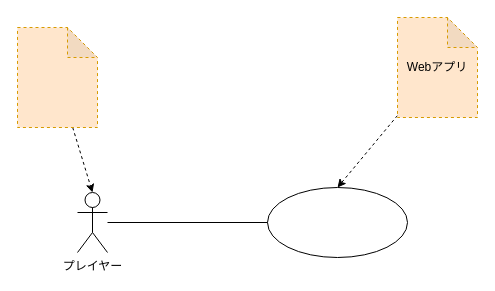
This 495x291 diagram has some shape labels left out. The centre of each missing label's shape, as x and y in pixels:
ひとりで黒白交互に打つ: the point at 57,77
リバーシ アプリケーション: the point at 337,222
